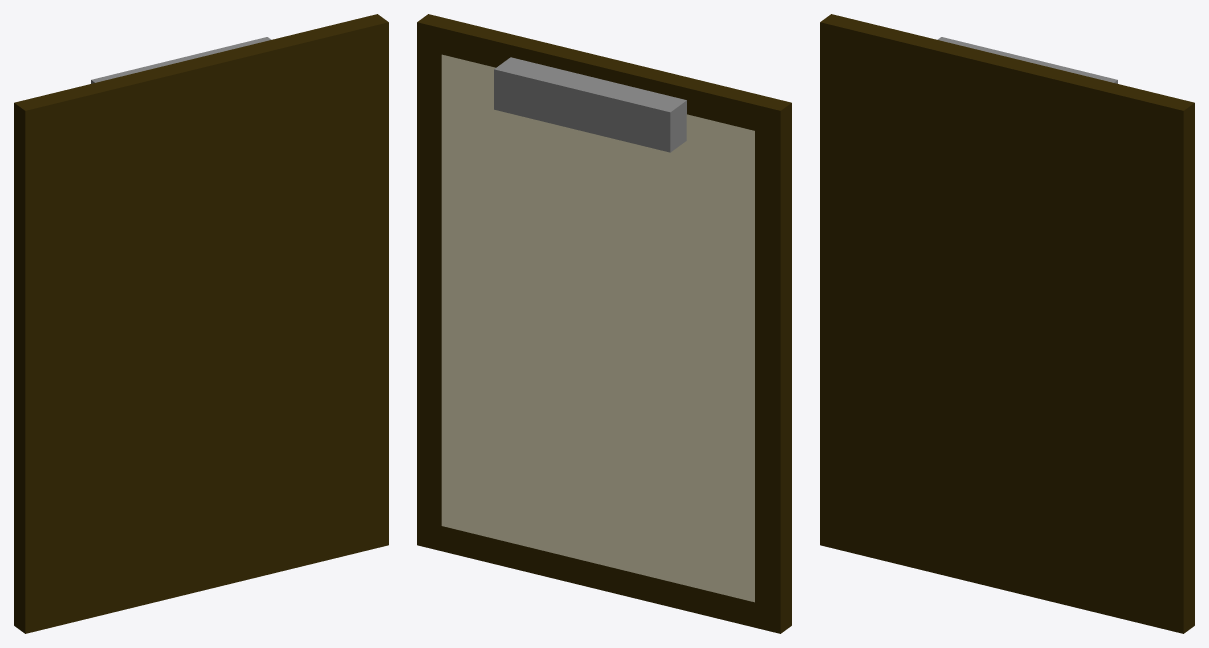
3 renders of one model, left to right at view 1: azimuth 30°, elevation 25°; view 2: azimuth 150°, elevation 25°; view 3: azimuth 330°, elevation 25°, orthographic.
Parts seen in each view (by area): view 1: Cube, Cube.001; view 2: Cube.002, Cube, Cube.001; view 3: Cube, Cube.001.
Part boxes in pixels (x1,y1,x2,y2): Cube: (14, 14, 388, 633); Cube.001: (91, 37, 271, 83); Cube.002: (441, 54, 754, 602); Cube: (417, 14, 791, 633); Cube.001: (494, 57, 686, 152); Cube: (820, 14, 1194, 633); Cube.001: (937, 37, 1117, 83).
Size of the model in its own units: 0.6251 by 0.8594 by 0.0829.
